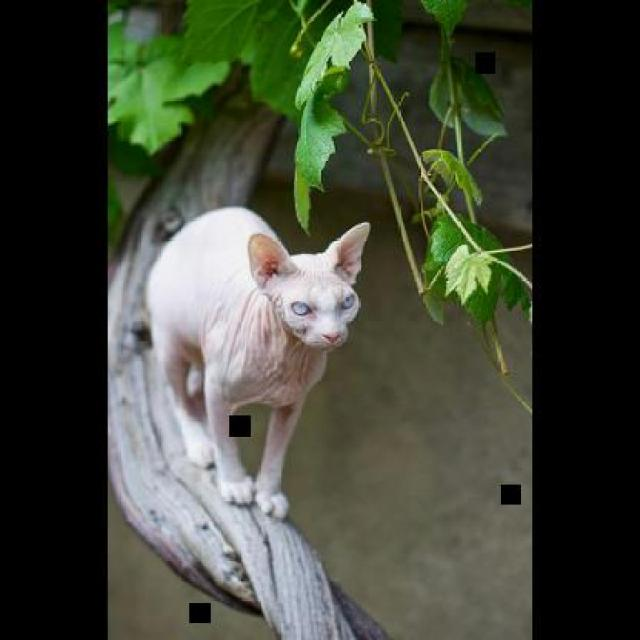unauthorized: (143, 205, 371, 520)
